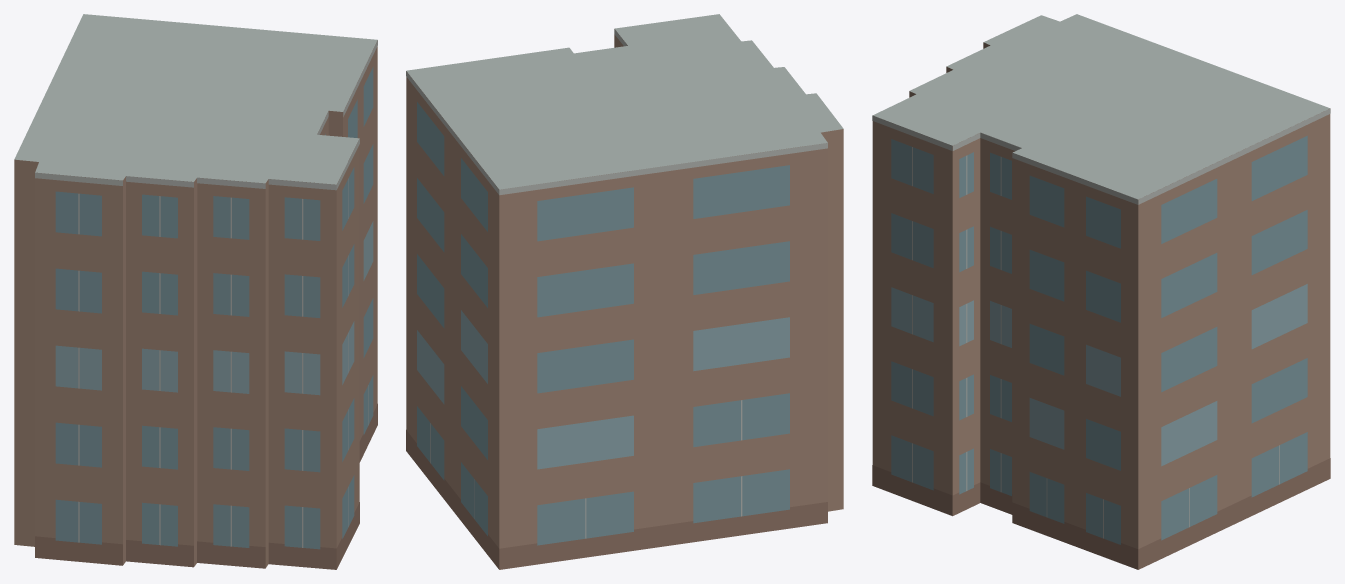
File: survey-upis-32889450.glb
3 views of the same model, side by side, from view 1: azimuth 30°, elevation 25°; view 2: azimuth 150°, elevation 25°; view 3: azimuth 270°, elevation 25° (orthographic). The views are drawn at different scales.
Parts seen in each view (by area): view 1: survey-upis-32889450.tmp; view 2: survey-upis-32889450.tmp; view 3: survey-upis-32889450.tmp.
Part boxes in pixels (<box>): survey-upis-32889450.tmp: <box>14,14,377,569</box>; survey-upis-32889450.tmp: <box>406,14,843,569</box>; survey-upis-32889450.tmp: <box>872,14,1330,569</box>.
Bounding box in the file's own units: 17.84 × 16.6 × 18.61.
